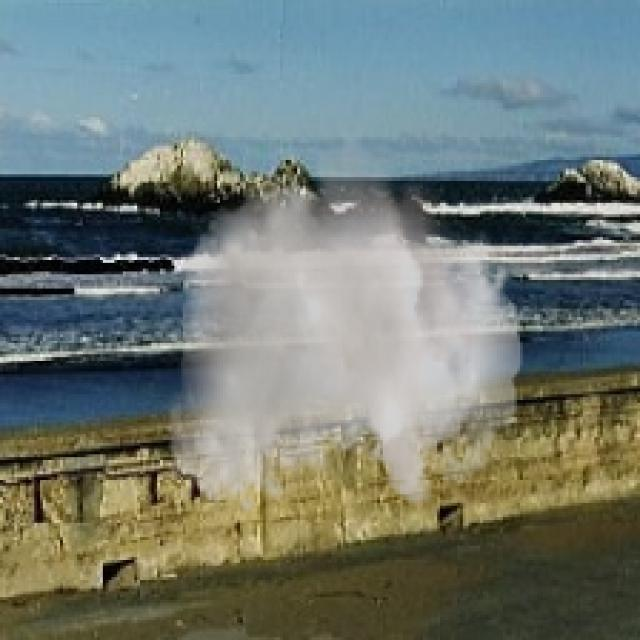Smoke: (166, 128, 523, 520)
